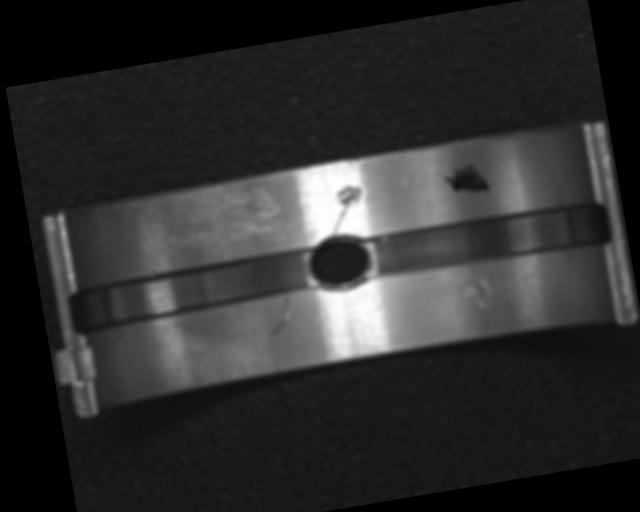blot: (443, 163, 491, 198)
bruise: (459, 274, 496, 317), (332, 184, 366, 210)
gap: (362, 195, 611, 286), (68, 246, 316, 336)
hole: (303, 227, 376, 297)
nick: (263, 296, 295, 336), (325, 202, 355, 238)
scratch: (158, 185, 286, 262)
